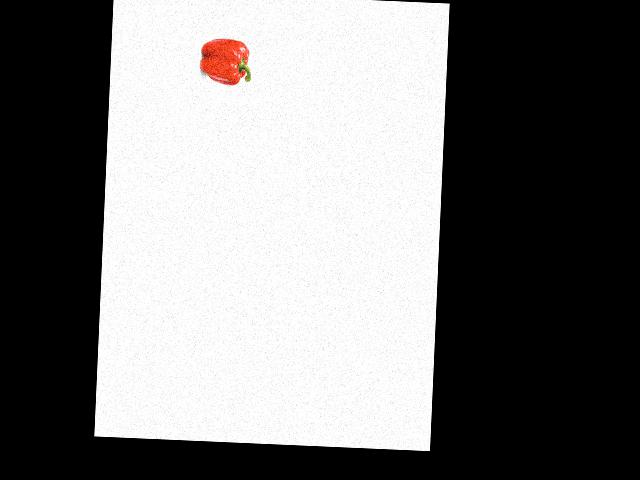bell_pepper: (198, 36, 253, 86)
